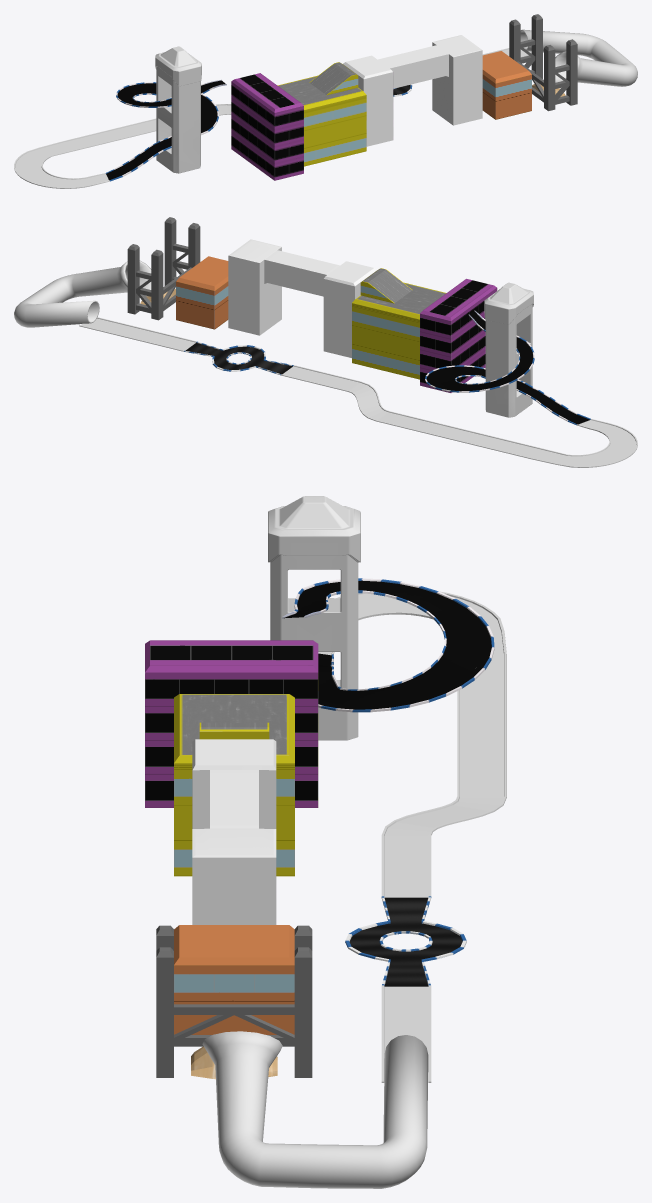
The model's file is pistas.fbx.
3 views of the same model, one above another, from view 1: azimuth 30°, elevation 25°; view 2: azimuth 150°, elevation 25°; view 3: azimuth 270°, elevation 25° (orthographic). The views are drawn at different scales.
Visible parts, largest first — view 1: Flat 2.005, Flat 2.007, Plane.002, Flat 2.006, Cube.001, Flat 2.002, Cylinder, Flat 2.004; view 2: Plane.002, Flat 2.005, Flat 2.006, Flat 2.007, Cube.001, Cylinder, Flat 2.002, Flat 2.004; view 3: Plane.002, Cylinder, Flat 2.005, Flat 2.007, Cube.001, Flat 2.004, Flat 2.006, Flat 2.002.
Boxes of the visible parts, x1=… form: Flat 2.005: x1=343, y1=35, x2=482, y2=146; Flat 2.007: x1=231, y1=73, x2=303, y2=180; Plane.002: x1=14, y1=48, x2=531, y2=188; Flat 2.006: x1=277, y1=62, x2=366, y2=166; Cube.001: x1=155, y1=46, x2=201, y2=173; Flat 2.002: x1=509, y1=14, x2=577, y2=111; Cylinder: x1=520, y1=29, x2=637, y2=86; Flat 2.004: x1=482, y1=51, x2=531, y2=119; Plane.002: x1=79, y1=310, x2=637, y2=467; Flat 2.005: x1=228, y1=239, x2=376, y2=357; Flat 2.006: x1=352, y1=268, x2=446, y2=379; Flat 2.007: x1=420, y1=278, x2=497, y2=392; Cube.001: x1=484, y1=282, x2=533, y2=417; Cylinder: x1=14, y1=260, x2=151, y2=327; Flat 2.002: x1=127, y1=217, x2=200, y2=320; Flat 2.004: x1=176, y1=256, x2=228, y2=329; Plane.002: x1=282, y1=578, x2=506, y2=1082; Cylinder: x1=202, y1=1031, x2=428, y2=1188; Flat 2.005: x1=192, y1=739, x2=276, y2=924; Flat 2.007: x1=145, y1=640, x2=318, y2=807; Cube.001: x1=268, y1=496, x2=360, y2=740; Flat 2.004: x1=174, y1=925, x2=294, y2=1034; Flat 2.006: x1=174, y1=694, x2=294, y2=876; Flat 2.002: x1=156, y1=925, x2=312, y2=1077.
Size of the model in its own units: 15627 by 3340 by 4201.
